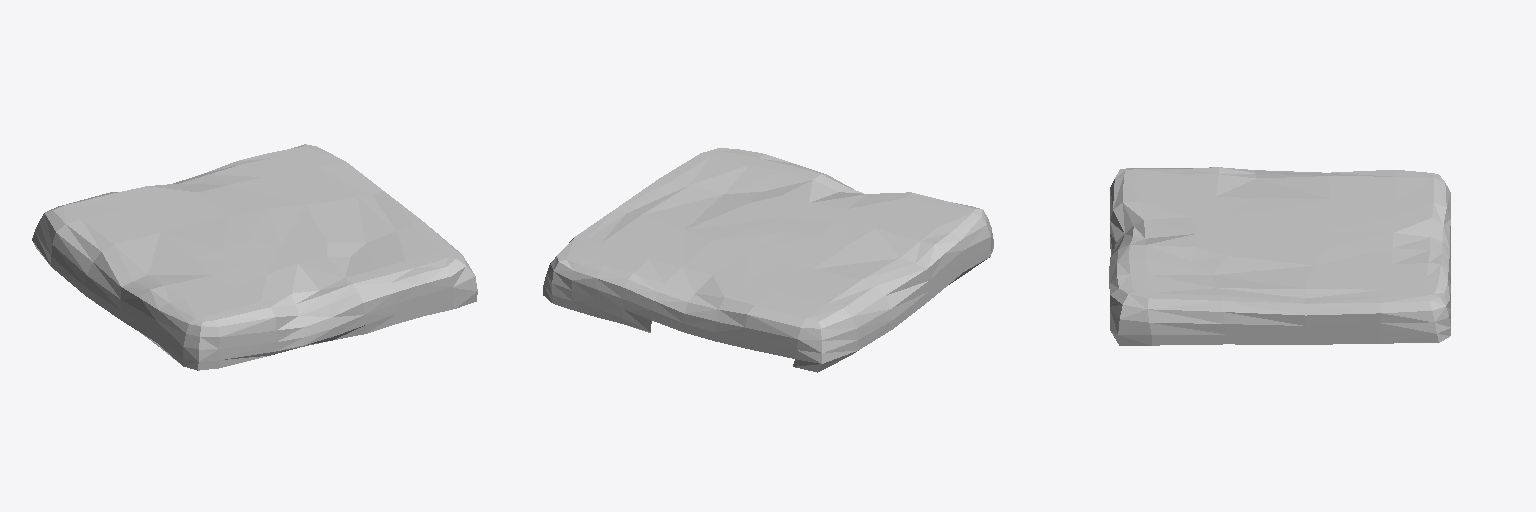
File: Tile3.obj
3 views of the same model, side by side, from view 1: azimuth 30°, elevation 25°; view 2: azimuth 150°, elevation 25°; view 3: azimuth 270°, elevation 25° (orthographic).
Visible parts, largest first — view 1: SM_Tile3_LP; view 2: SM_Tile3_LP; view 3: SM_Tile3_LP.
Part boxes in pixels (x1,y1,x2,y2): SM_Tile3_LP: (32, 144, 477, 370); SM_Tile3_LP: (543, 148, 993, 372); SM_Tile3_LP: (1109, 167, 1450, 345).
Size of the model in its own units: 156 by 23.53 by 157.